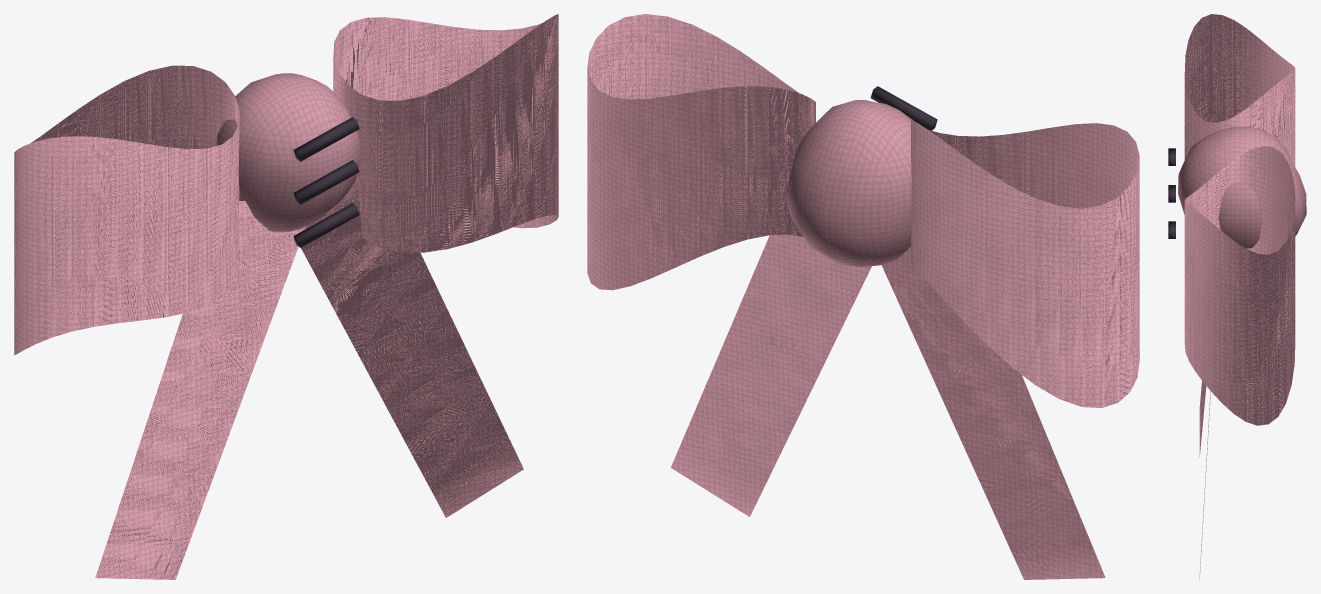
Rendered from ribbon_bow.glb.
3 renders of one model, left to right at view 1: azimuth 30°, elevation 25°; view 2: azimuth 150°, elevation 25°; view 3: azimuth 270°, elevation 25°, orthographic. The views are drawn at different scales.
Parts seen in each view (by area): view 1: ribbon_bow; view 2: ribbon_bow; view 3: ribbon_bow.
Boxes of the visible parts, x1,y1,x2,y2 form: ribbon_bow: [14, 14, 558, 579]; ribbon_bow: [587, 14, 1139, 579]; ribbon_bow: [1168, 14, 1306, 579].
Bounding box in the file's own units: 0.1038 × 0.0878 × 0.0275.
Materials: 2 (1 with a texture image).
